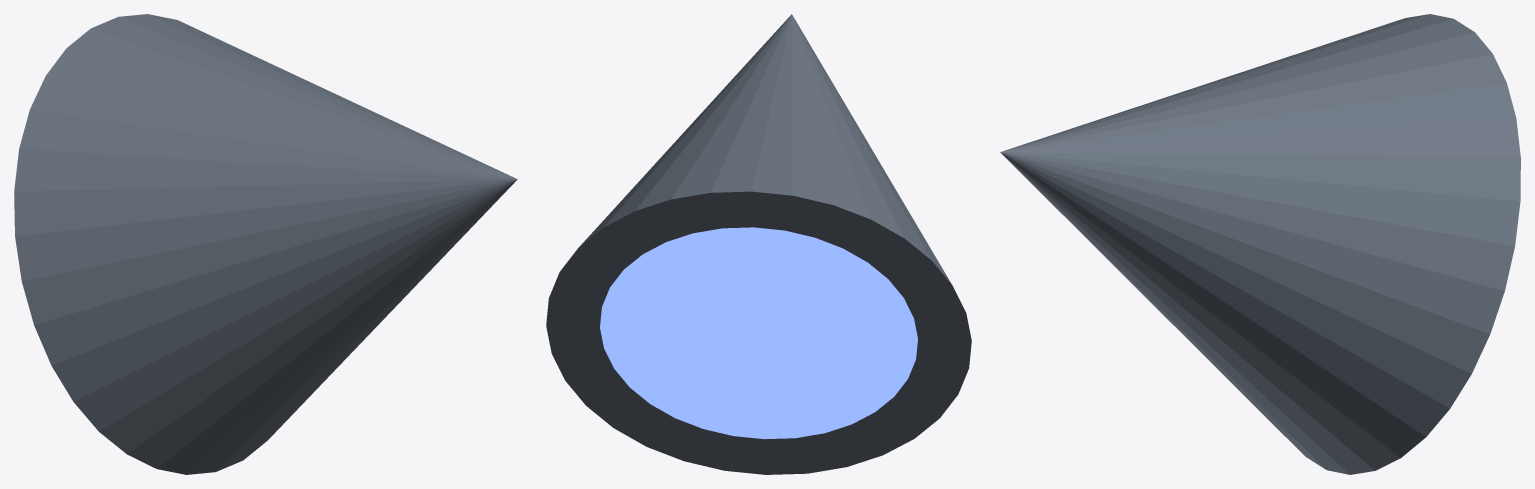
File: Reflector.fbx
3 views of the same model, side by side, from view 1: azimuth 30°, elevation 25°; view 2: azimuth 150°, elevation 25°; view 3: azimuth 270°, elevation 25° (orthographic). The views are drawn at different scales.
Parts seen in each view (by area): view 1: Cone.001; view 2: Cone.001; view 3: Cone.001.
Part boxes in pixels (x1,y1,x2,y2): Cone.001: (14,14,517,474); Cone.001: (546,14,971,474); Cone.001: (1000,14,1520,474).
Size of the model in its own units: 720 by 717 by 866.
